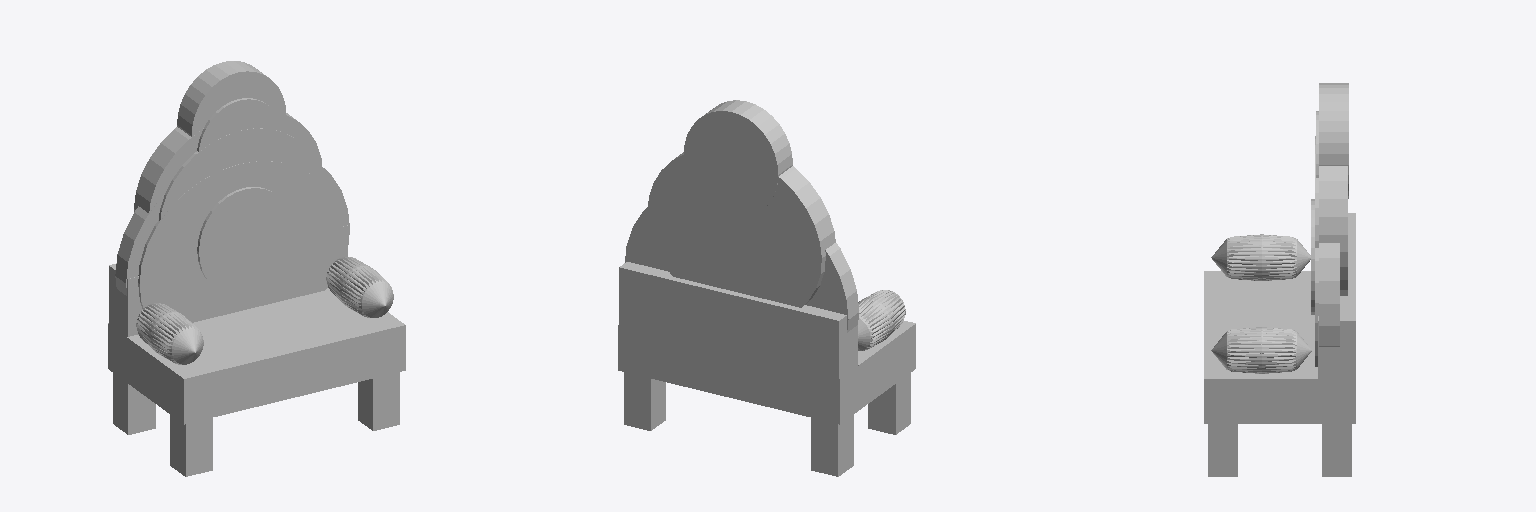
File: KrishnaThroneModelWithTexture_V3.obj
3 views of the same model, side by side, from view 1: azimuth 30°, elevation 25°; view 2: azimuth 150°, elevation 25°; view 3: azimuth 270°, elevation 25° (orthographic).
Visible parts, largest first — view 1: Cube_Cube.001, Cylinder.006, Cylinder.005, Cylinder.007, Cylinder.004, Cylinder.003, Cylinder.009, Cylinder.001, Cylinder, Cylinder.008; view 2: Cube_Cube.001, Cylinder.003, Cylinder.004, Cylinder, Cylinder.009; view 3: Cube_Cube.001, Cylinder.001, Cylinder.009, Cylinder.003, Cylinder.004, Cylinder.
Part boxes in pixels (x1,y1,x2,y2): Cube_Cube.001: (108,225,405,476); Cylinder.006: (138,161,340,322); Cylinder.005: (197,187,293,294); Cylinder.007: (159,128,315,220); Cylinder.004: (177,61,285,136); Cylinder.003: (134,112,321,212); Cylinder.009: (136,303,203,364); Cylinder.001: (326,257,393,317); Cylinder: (115,159,349,295); Cylinder.008: (197,98,282,151); Cube_Cube.001: (618,262,915,476); Cylinder.003: (648,152,835,307); Cylinder.004: (684,100,792,217); Cylinder: (625,207,858,332); Cylinder.009: (858,290,905,350); Cube_Cube.001: (1204,213,1355,476); Cylinder.001: (1211,327,1311,373); Cylinder.009: (1211,234,1310,280); Cylinder.003: (1319,166,1347,295); Cylinder.004: (1319,83,1348,198); Cylinder: (1319,243,1339,346).
Bounding box in the file's own units: 3.48 × 4.89 × 2.